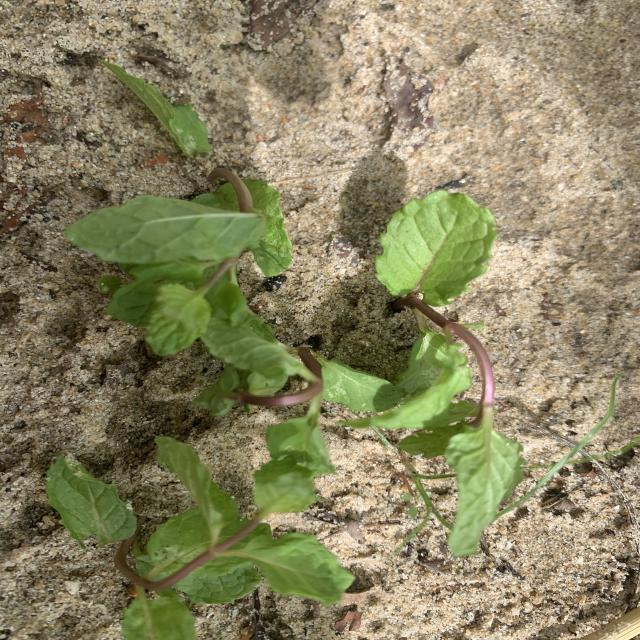crop: (345, 190, 524, 557), (46, 438, 352, 639), (66, 169, 291, 355), (193, 312, 399, 474), (100, 60, 210, 156)
